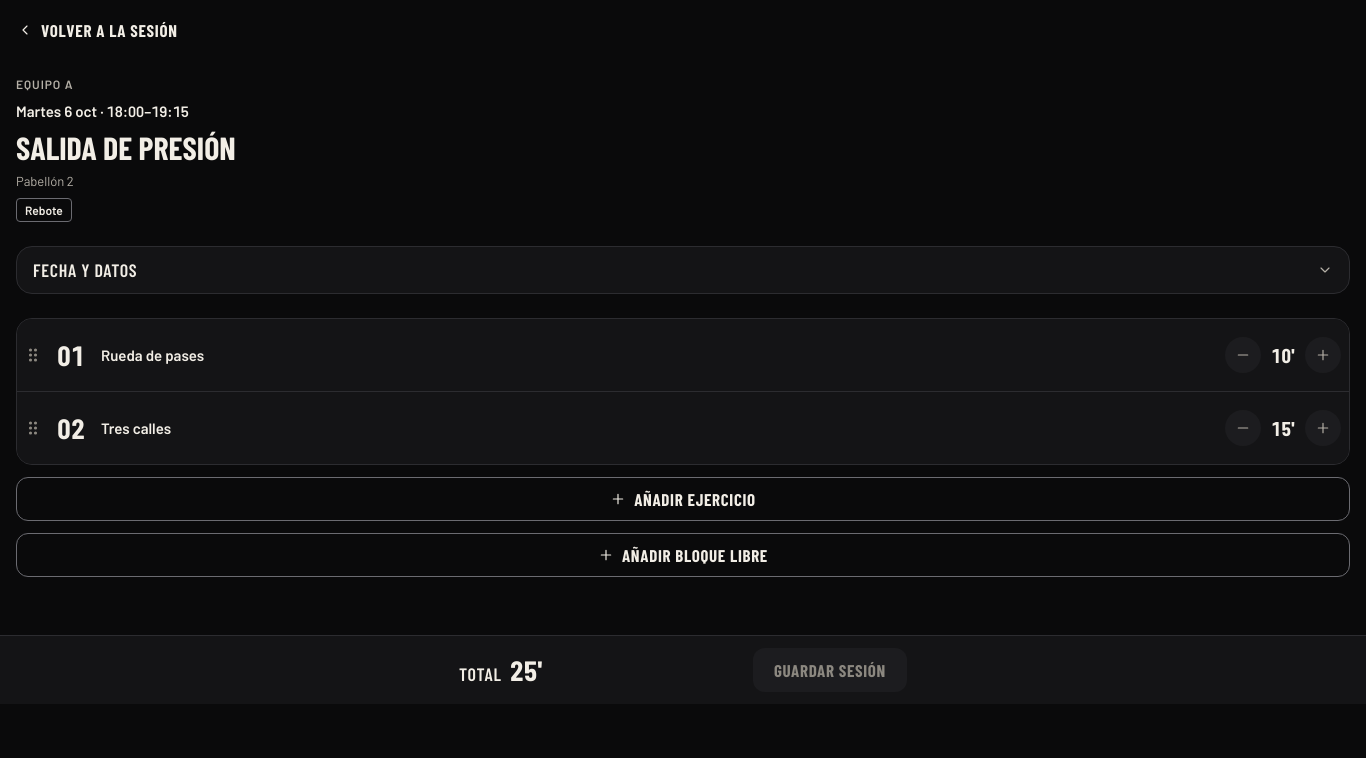
it: PracticeEditor · las pistas del club en «Fecha y datos» › «Lugar» sugiere las pistas que la página le pasa con las opciones
What coordinates should you click on to do the following:
click the button "Fecha y datos"
I would click on:
 (85, 270)
Its box is [16,246,1350,294].
(page scrolled)
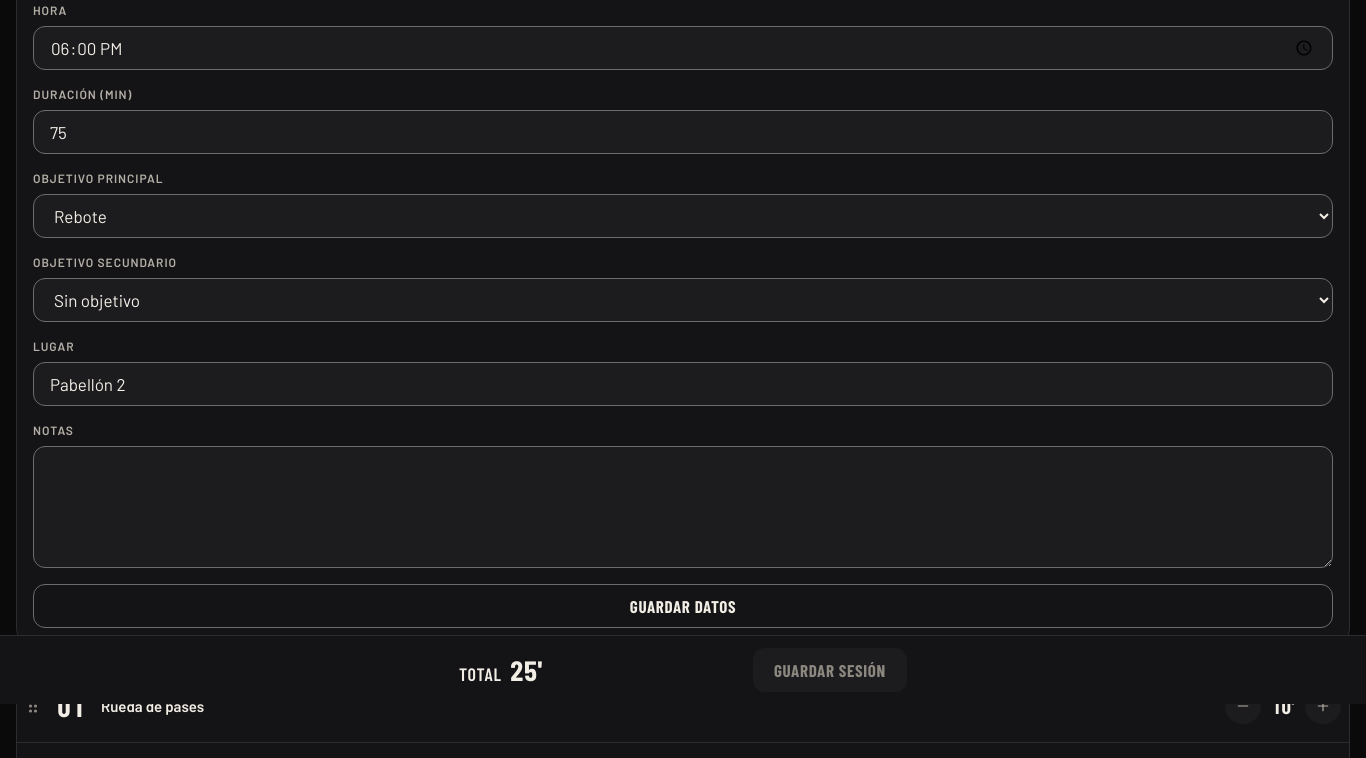
Expected: the field labelled "Lugar" holds "Pabellón 2", [33,362,1333,406]
